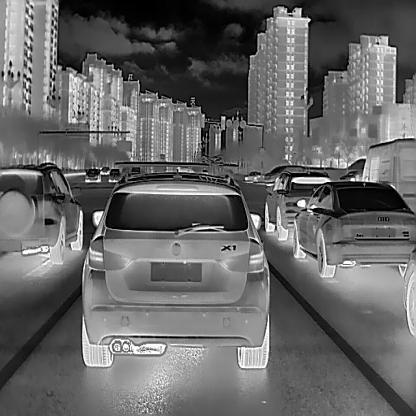car: (78, 166, 272, 372), (292, 176, 416, 279), (0, 159, 83, 264), (262, 168, 332, 243), (354, 137, 416, 220), (262, 162, 302, 188), (83, 166, 101, 183), (338, 170, 361, 182), (242, 169, 260, 181), (107, 168, 121, 182), (99, 164, 110, 175)
